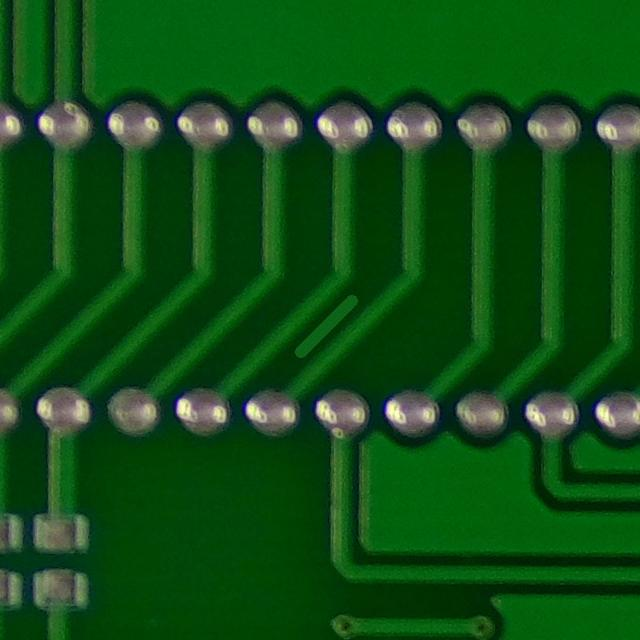spurious_copper: (264, 276, 376, 365)
